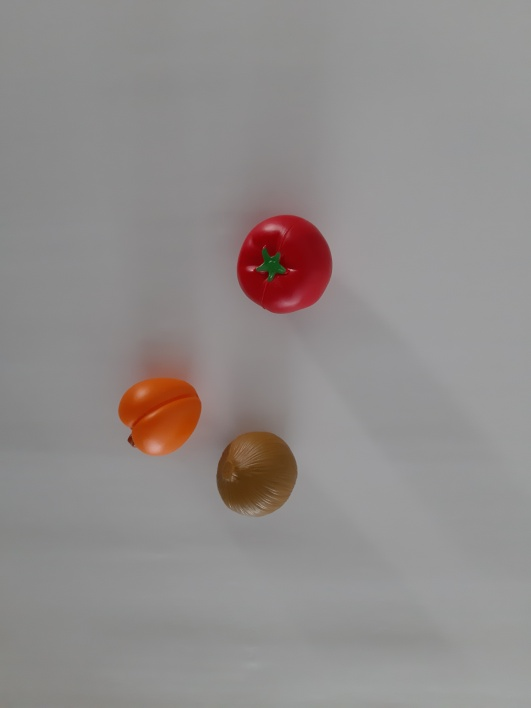apricot: (94, 365, 207, 468)
onion: (211, 420, 312, 533)
tomato: (225, 204, 350, 328)
